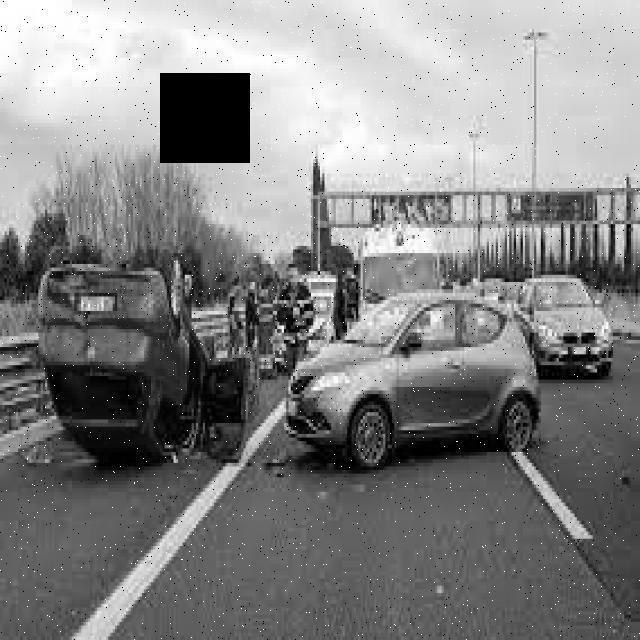accident: (38, 253, 257, 470)
vehicle: (281, 292, 545, 468), (515, 277, 614, 379)
